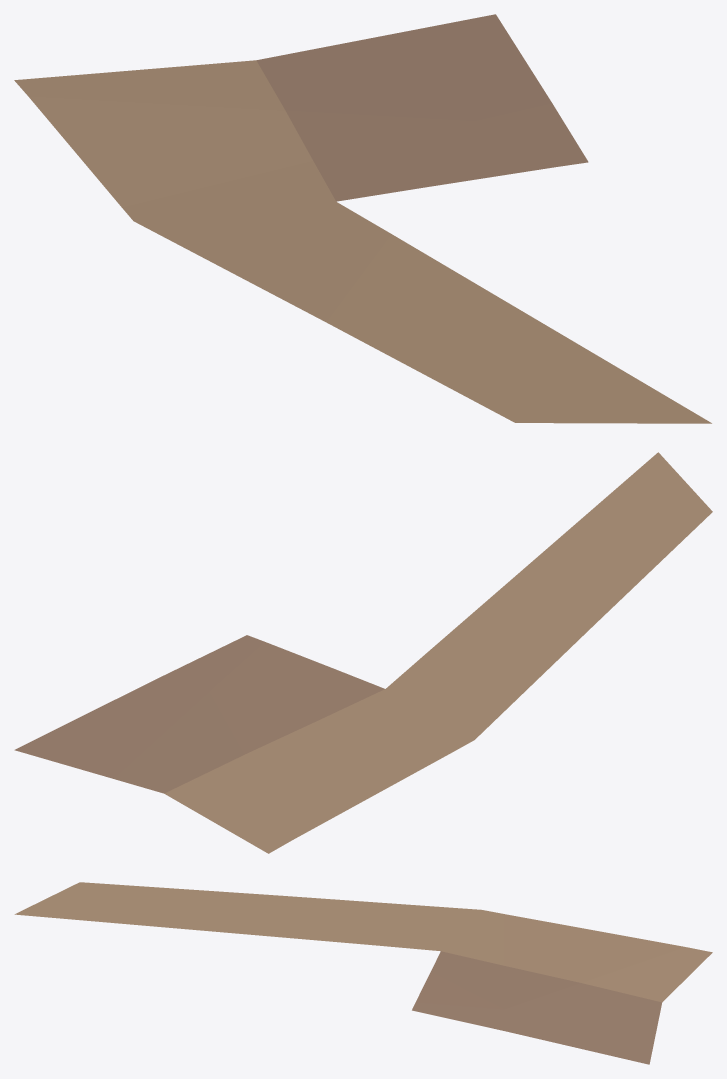
The model's file is farm_-53_-43_soil.glb.
The picture shows the model from 3 angles, top to bottom: view 1: azimuth 30°, elevation 25°; view 2: azimuth 150°, elevation 25°; view 3: azimuth 270°, elevation 25°; orthographic projection. The views are drawn at different scales.
Visible parts, largest first — view 1: geometry_0; view 2: geometry_0; view 3: geometry_0.
Part boxes in pixels (<box>): geometry_0: <box>14,14,711,423</box>; geometry_0: <box>14,452,712,853</box>; geometry_0: <box>14,882,712,1064</box>.
Size of the model in its own units: 38.52 by 7.27 by 81.93.
